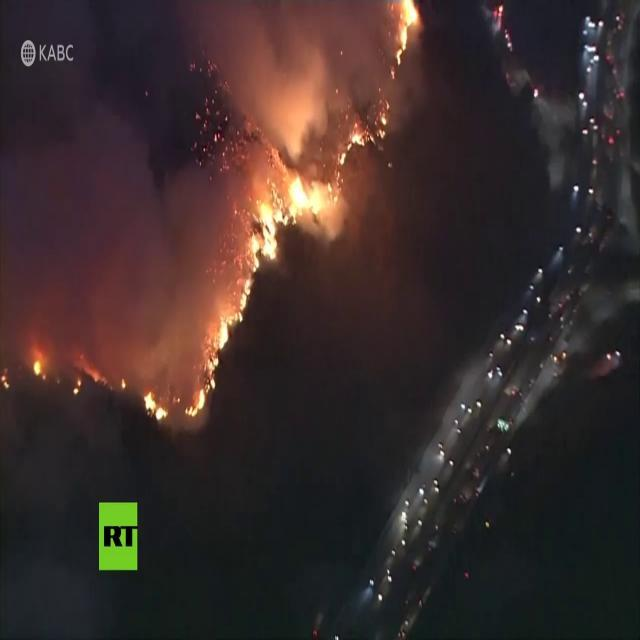Fire: (276, 176, 337, 222), (250, 198, 278, 272), (204, 319, 228, 397), (396, 2, 418, 65), (338, 130, 374, 164), (233, 280, 251, 324), (183, 389, 204, 419), (145, 393, 166, 421), (32, 359, 42, 376)
